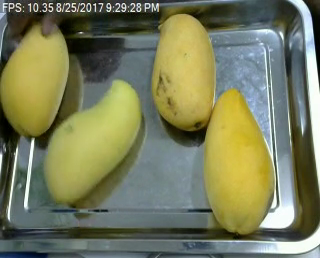Mango: (44, 78, 141, 204), (203, 89, 274, 234), (0, 20, 68, 137), (151, 13, 216, 131)
